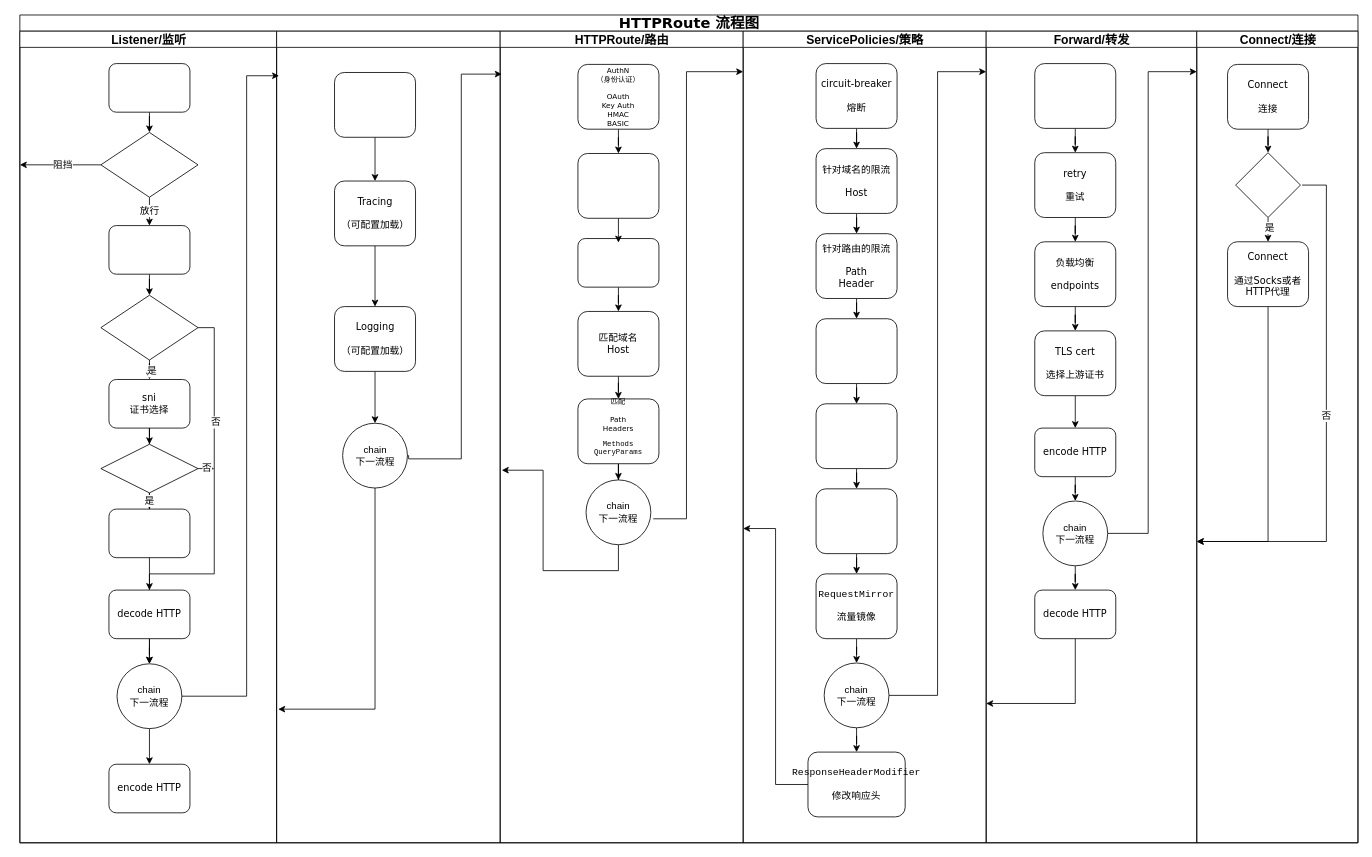
Image size: 1372x857. Some labels were removed from this diagram. Each missing label, with the box of its shape:
Accept TCP connections: (108, 63, 190, 112)
AuthZ （访问鉴权） IP地址黑白名单: (577, 153, 659, 218)
Failover 选择主备: (1034, 63, 1116, 128)
HTTPURLRewrite URL 重写: (815, 403, 897, 469)
IP 黑白名单: (100, 132, 198, 197)
Metrics （可配置加载）: (334, 72, 416, 137)
Metrics/Tracing/Logging（插件）: (276, 30, 500, 843)
RequestHeaderModifier 修改请求头: (815, 488, 897, 554)
RequestRedirect 请求重定向: (815, 318, 897, 384)
四层限流: (108, 225, 190, 274)
是否 HTTPS: (100, 294, 198, 360)
是否 mTLS: (100, 443, 198, 493)
是否 代理: (1235, 152, 1300, 217)
根据client TLS 证书 确定 consumer: (108, 508, 190, 558)
针对用户的限流: (577, 238, 659, 287)
